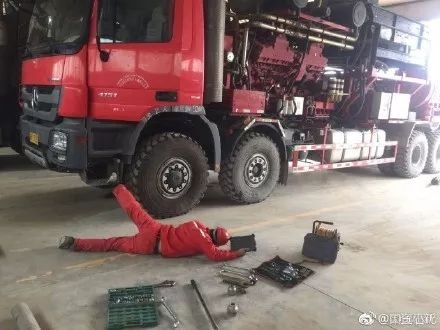falling: (44, 165, 259, 266)
